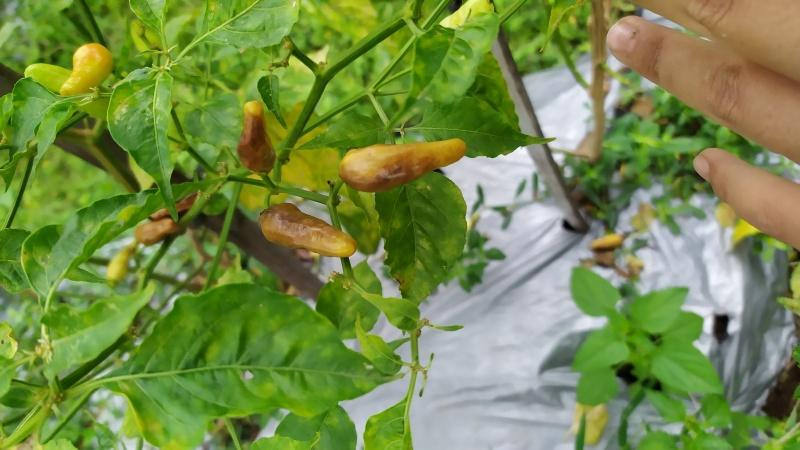cabai_normal: (61, 43, 114, 99)
lalat_buah: (339, 139, 466, 191), (259, 203, 357, 256), (236, 100, 278, 176), (134, 220, 180, 244)
